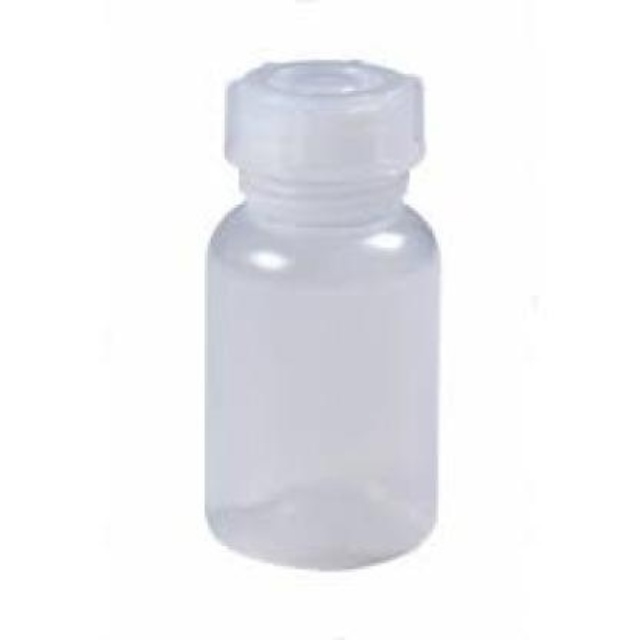trash: (206, 60, 437, 568)
